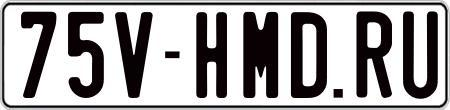5: (68, 11, 105, 101)
7: (18, 11, 55, 100)
D: (288, 9, 325, 95)
H: (193, 9, 226, 96)
M: (241, 11, 281, 98)
R: (354, 11, 396, 101)
U: (402, 11, 434, 105)
V: (115, 10, 153, 99)
